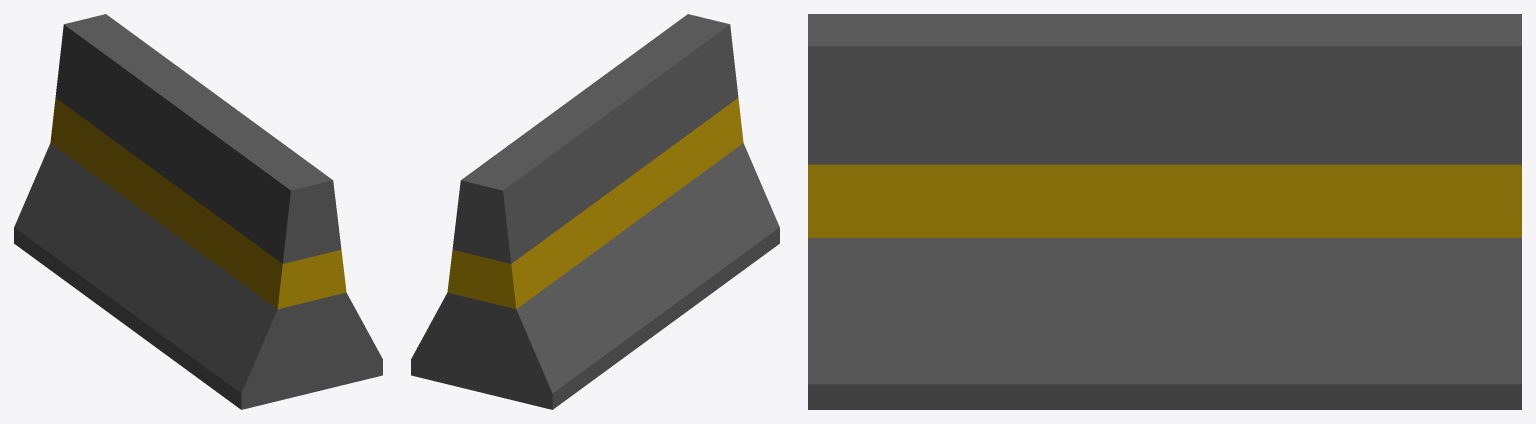
Rendered from Muro.FBX.
3 views of the same model, side by side, from view 1: azimuth 30°, elevation 25°; view 2: azimuth 150°, elevation 25°; view 3: azimuth 270°, elevation 25° (orthographic). The views are drawn at different scales.
Visible parts, largest first — view 1: Bloque_cemento013; view 2: Bloque_cemento013; view 3: Bloque_cemento013.
Part boxes in pixels (x1=…): Bloque_cemento013: x1=14, y1=14, x2=382, y2=409; Bloque_cemento013: x1=411, y1=14, x2=779, y2=409; Bloque_cemento013: x1=808, y1=14, x2=1521, y2=409.
Size of the model in its own units: 311 by 436 by 866.
